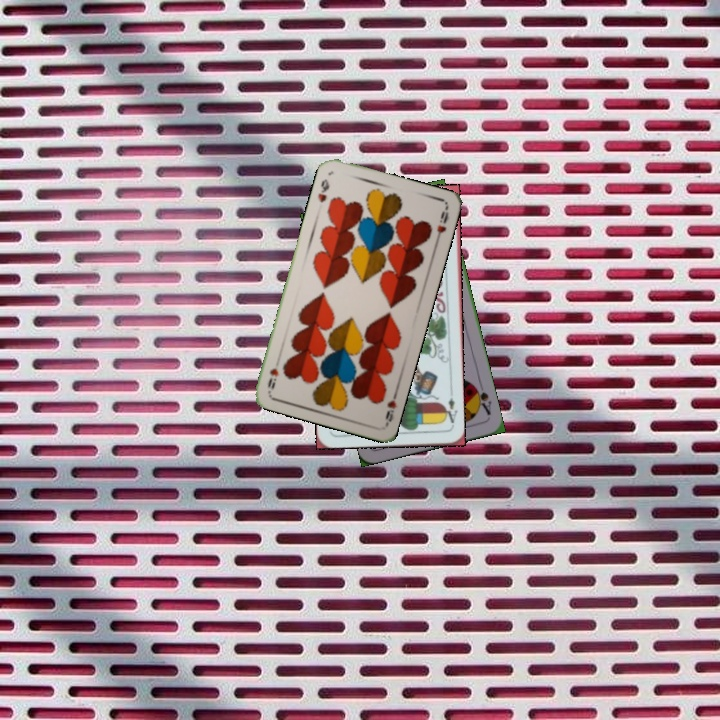EA: (440, 394, 459, 429)
H9: (381, 387, 400, 427), (314, 175, 332, 205)
SA: (469, 381, 494, 418)
